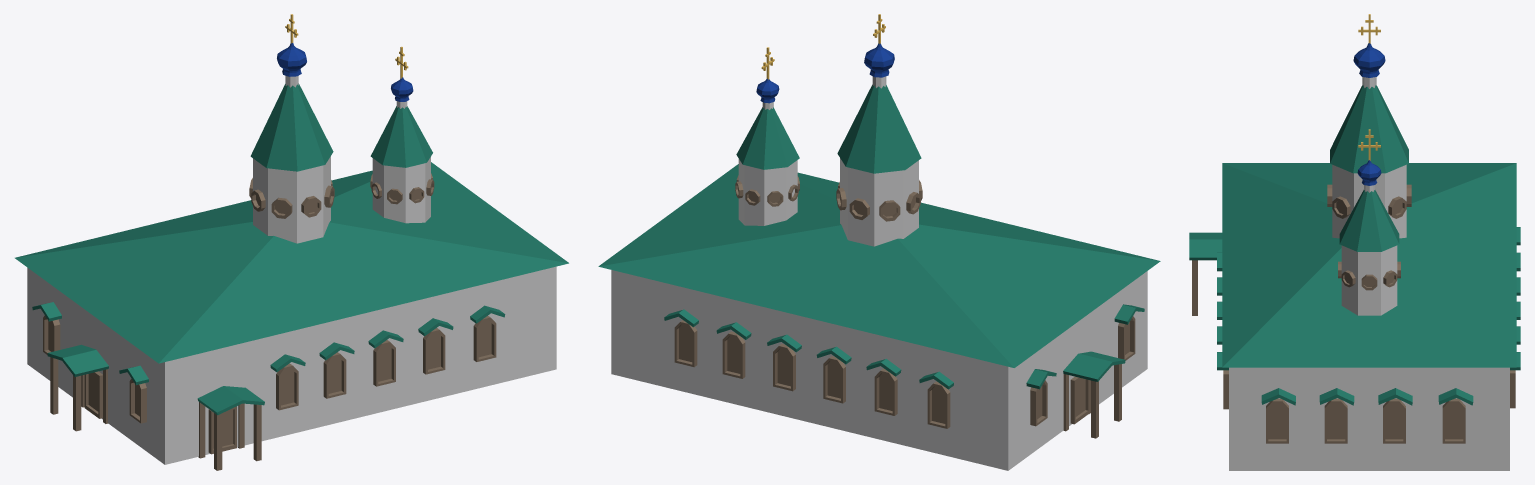
Rendered from iverskiy.glb.
3 views of the same model, side by side, from view 1: azimuth 30°, elevation 25°; view 2: azimuth 150°, elevation 25°; view 3: azimuth 270°, elevation 25° (orthographic).
Visible parts, largest first — view 1: Cylinder.003, Cube, Cylinder.013, Cylinder.001, Cube.039, Cylinder.006; view 2: Cylinder.003, Cube, Cylinder.013, Cylinder.001, Cube.039, Cylinder.006; view 3: Cylinder.003, Cube, Cylinder.013, Cylinder.001, Cube.039, Cylinder.006, cross.
Part boxes in pixels (box(x1,y1,x2,y2)): Cylinder.003: box(15, 83, 568, 363); Cube: box(27, 266, 556, 464); Cylinder.013: box(43, 173, 496, 470); Cylinder.001: box(253, 75, 430, 243); Cube.039: box(32, 302, 505, 415); Cylinder.006: box(277, 43, 413, 101); Cylinder.003: box(598, 84, 1160, 367); Cube: box(611, 270, 1147, 470); Cylinder.013: box(674, 175, 1135, 438); Cylinder.001: box(738, 76, 918, 246); Cube.039: box(664, 304, 1144, 389); Cylinder.006: box(756, 43, 894, 103); Cylinder.003: box(1222, 85, 1516, 367); Cube: box(1229, 367, 1509, 470); Cylinder.013: box(1192, 184, 1515, 443); Cylinder.001: box(1332, 77, 1406, 315); Cube.039: box(1189, 227, 1520, 405); Cylinder.006: box(1353, 43, 1385, 185); cross: box(1358, 14, 1380, 160).
Bounding box in the file's own units: 2.57 × 1.98 × 1.65.
